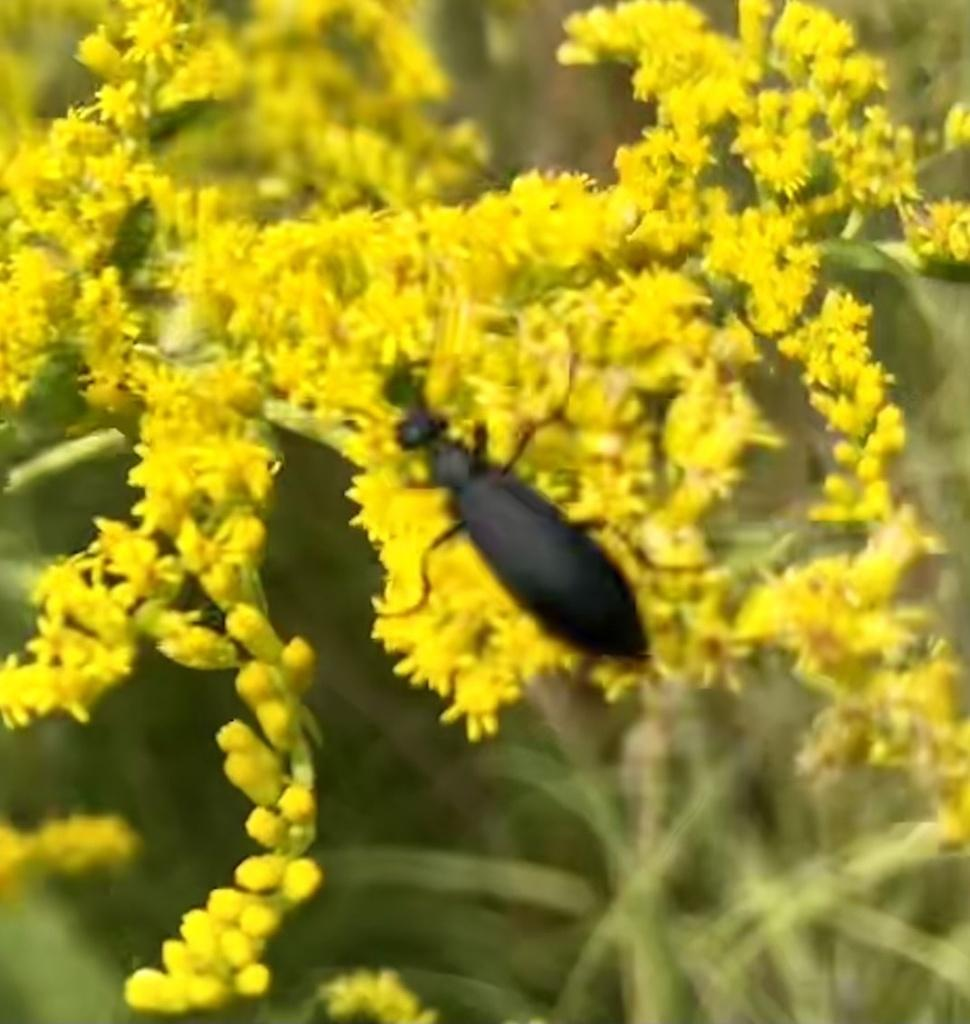blister_beetle: (325, 302, 704, 745)
